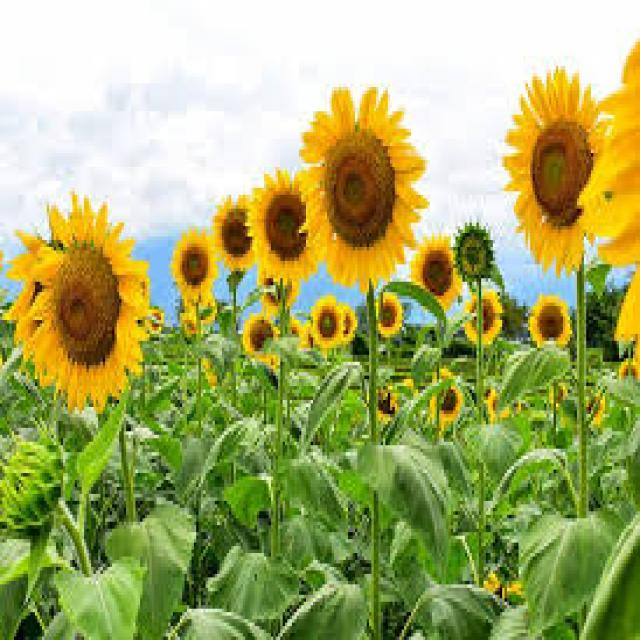sunflower: (290, 73, 434, 301), (24, 186, 150, 424), (498, 50, 608, 284), (578, 26, 640, 377), (1, 189, 97, 388), (242, 163, 331, 294), (201, 179, 265, 287), (444, 207, 506, 289), (166, 224, 219, 308), (406, 235, 459, 313), (458, 282, 511, 358), (422, 365, 471, 433), (478, 560, 535, 616), (308, 282, 351, 351), (528, 294, 573, 355), (366, 377, 408, 435), (239, 313, 284, 365), (369, 285, 408, 341), (580, 388, 608, 436), (142, 294, 167, 344), (609, 354, 640, 393), (548, 381, 566, 403)
